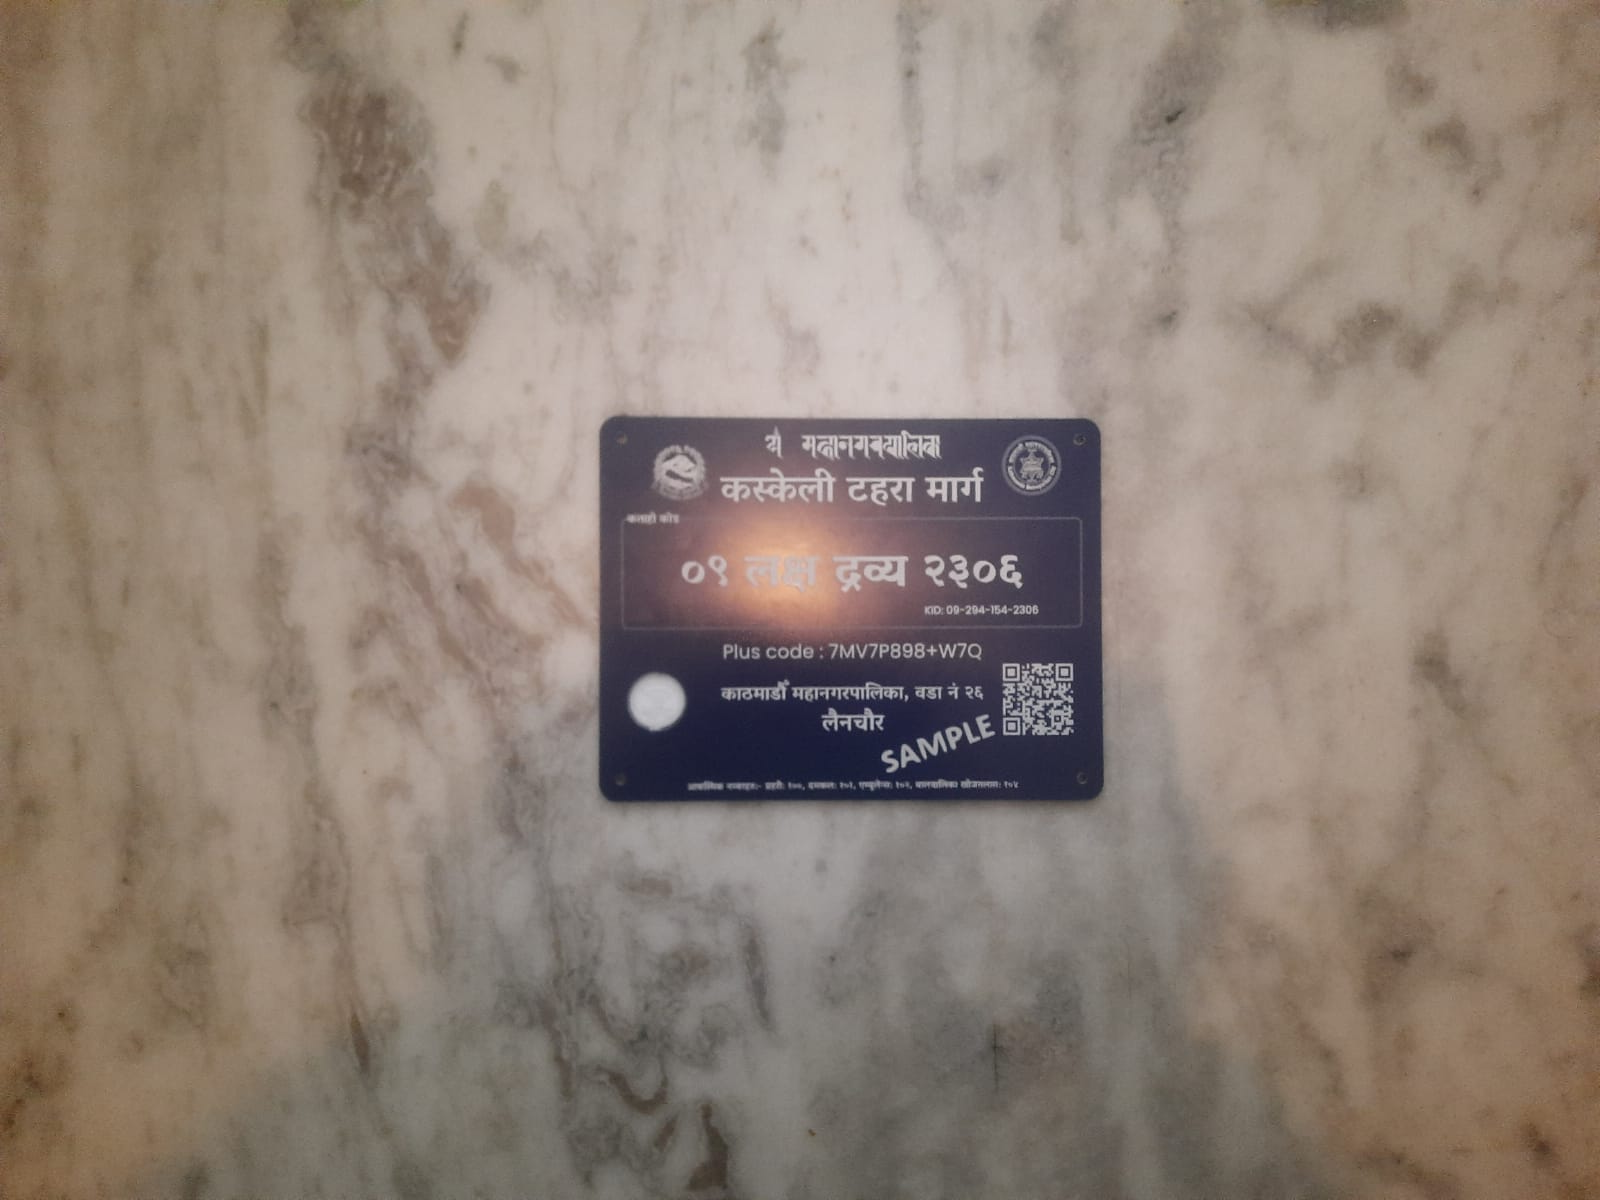Plate: (589, 412, 1109, 808)
